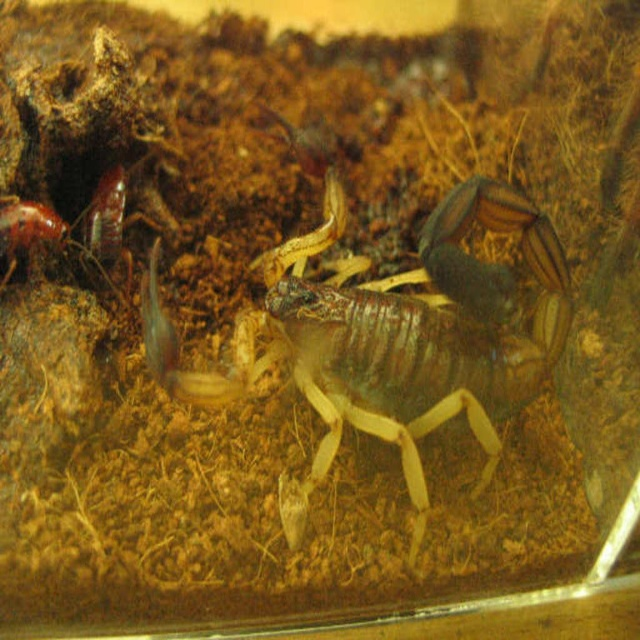Scorpion: (141, 100, 573, 566)
